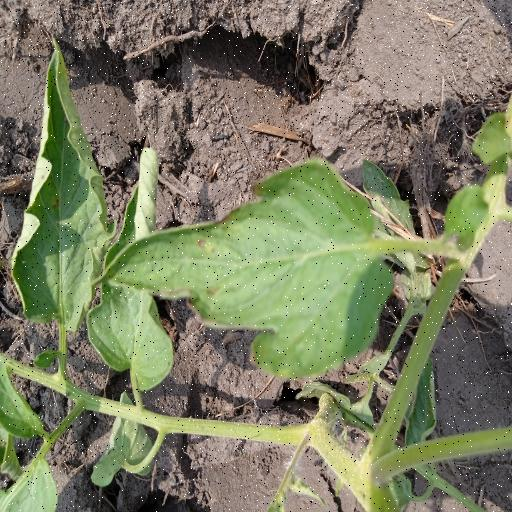Tomato_Mildiou: (95, 148, 407, 393)
